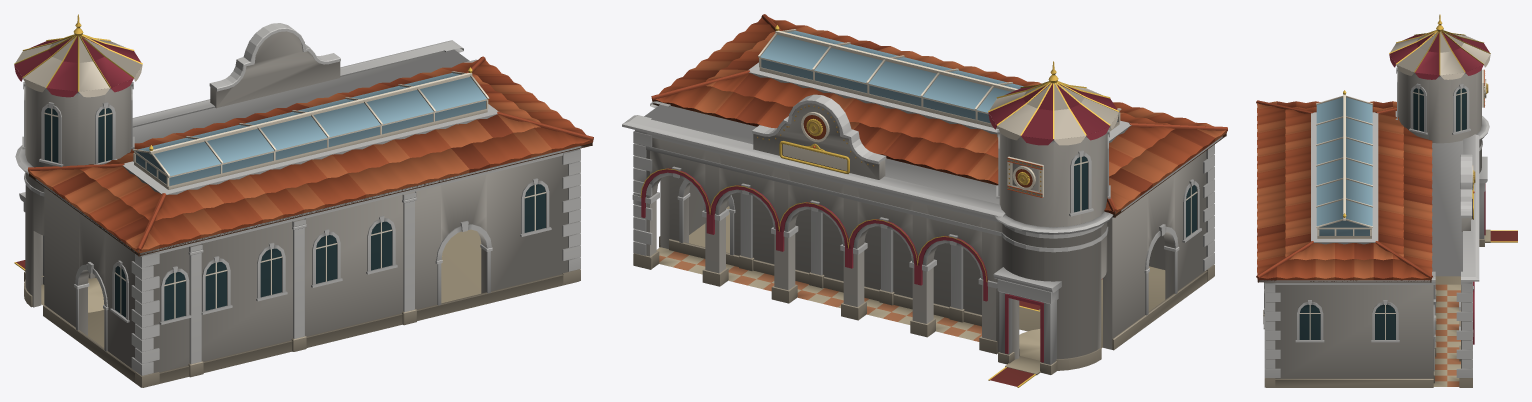
File: pav_kursaal.glb
3 renders of one model, left to right at view 1: azimuth 30°, elevation 25°; view 2: azimuth 150°, elevation 25°; view 3: azimuth 270°, elevation 25°, orthographic. The views are drawn at different scales.
Parts seen in each view (by area): view 1: static_kursaal; view 2: static_kursaal; view 3: static_kursaal.
Part boxes in pixels (left/top/right/bottom): static_kursaal: left=14, top=14, right=593, bottom=387; static_kursaal: left=622, top=14, right=1227, bottom=387; static_kursaal: left=1256, top=14, right=1517, bottom=387.
Size of the model in its own units: 19.96 by 11.73 by 12.5.
